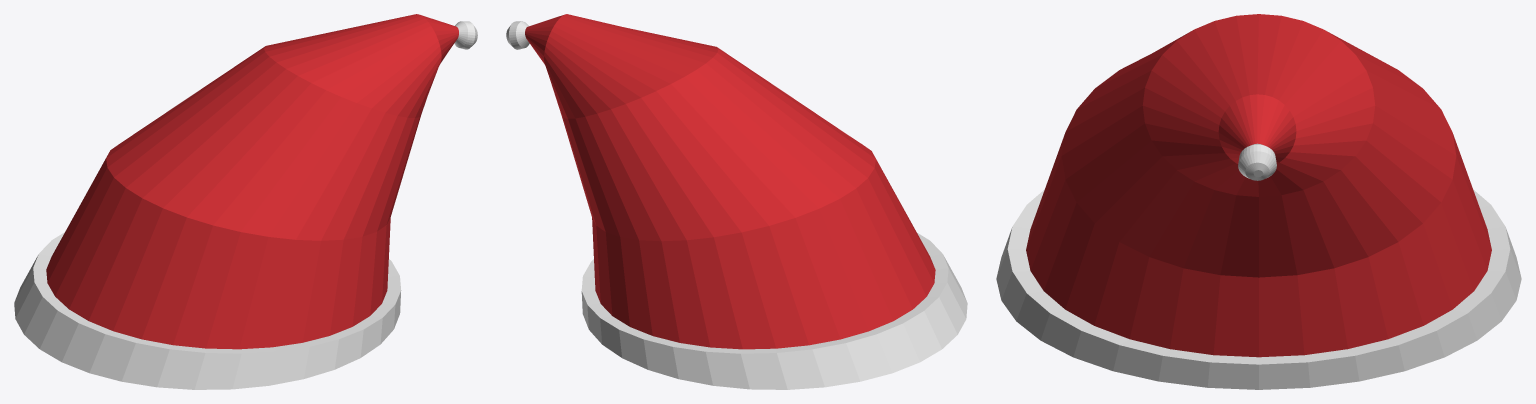
The model's file is chapeau.fbx.
3 views of the same model, side by side, from view 1: azimuth 30°, elevation 25°; view 2: azimuth 150°, elevation 25°; view 3: azimuth 270°, elevation 25° (orthographic). The views are drawn at different scales.
Parts seen in each view (by area): view 1: Circle; view 2: Circle; view 3: Circle.
Boxes of the visible parts, x1,y1,x2,y2 form: Circle: [14, 14, 477, 389]; Circle: [506, 14, 967, 389]; Circle: [996, 14, 1521, 389].
Size of the model in its own units: 280 by 148 by 216.
